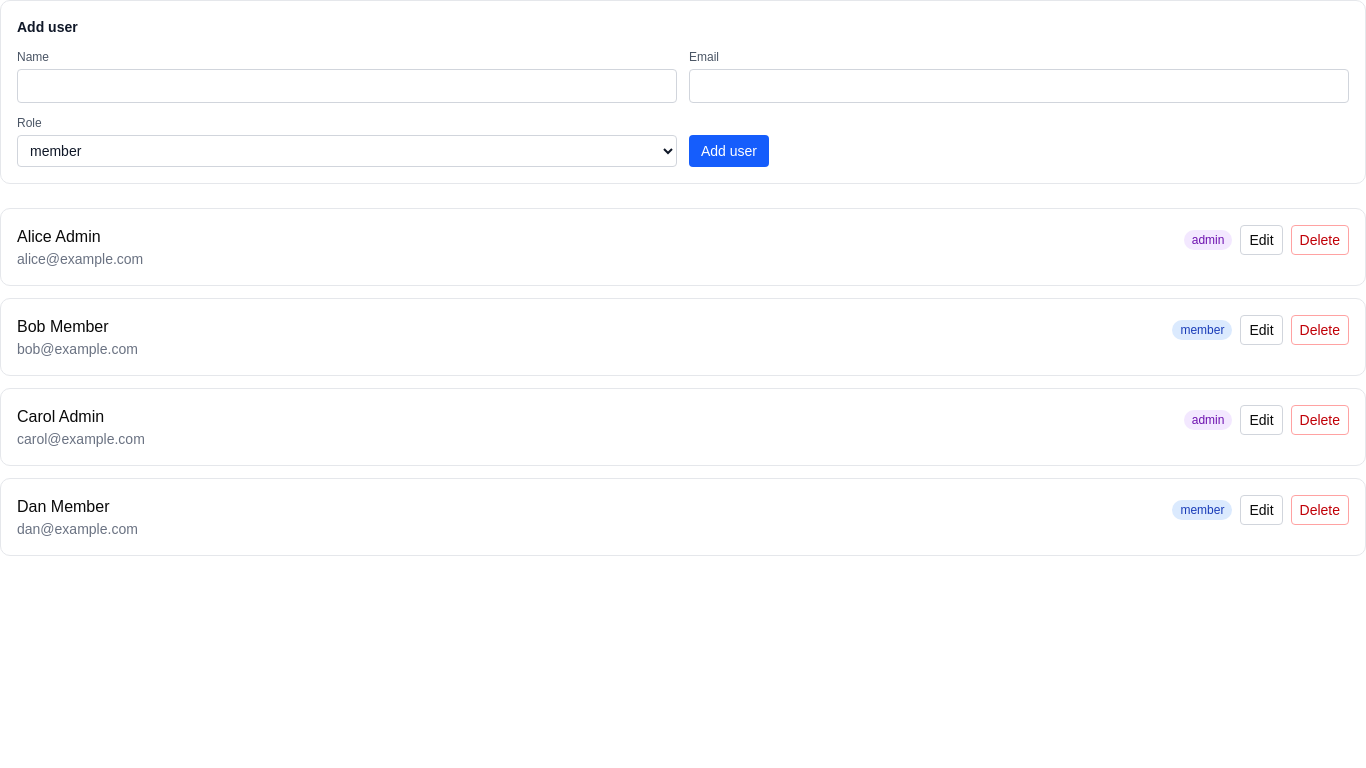
Scenario: UsersPage › removes a user when delete is confirmed
Expected: the text "Dan Member" is shown, [17,498,110,515]
Click the button "Delete" in the row of "dan@example.com" at [1320, 510], box [1290,495,1349,525]
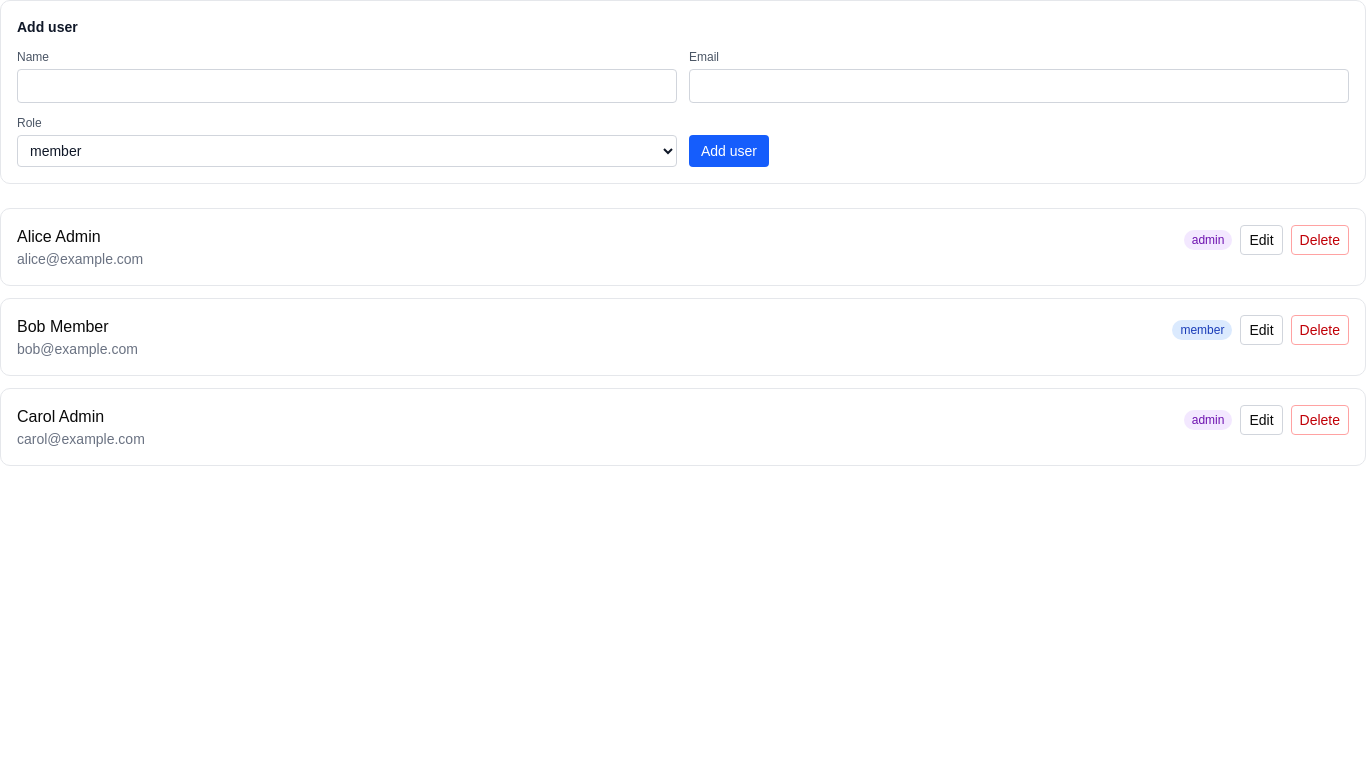
Expected: the text "Dan Member" is gone
